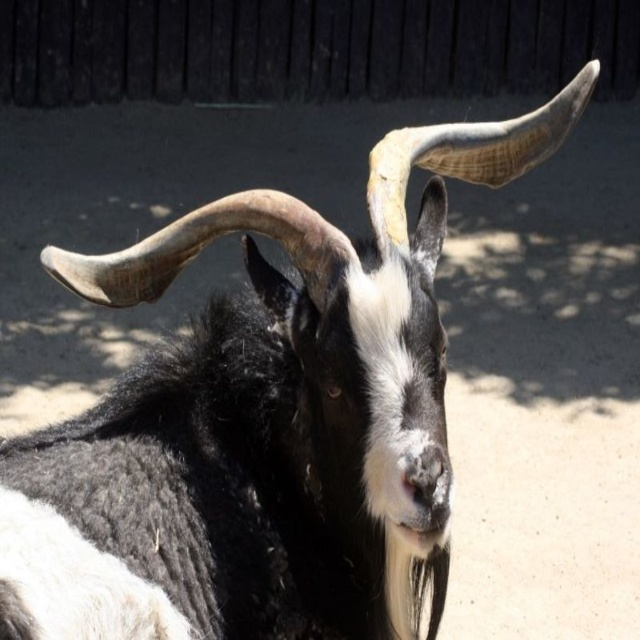Sheep: (0, 58, 600, 639)
